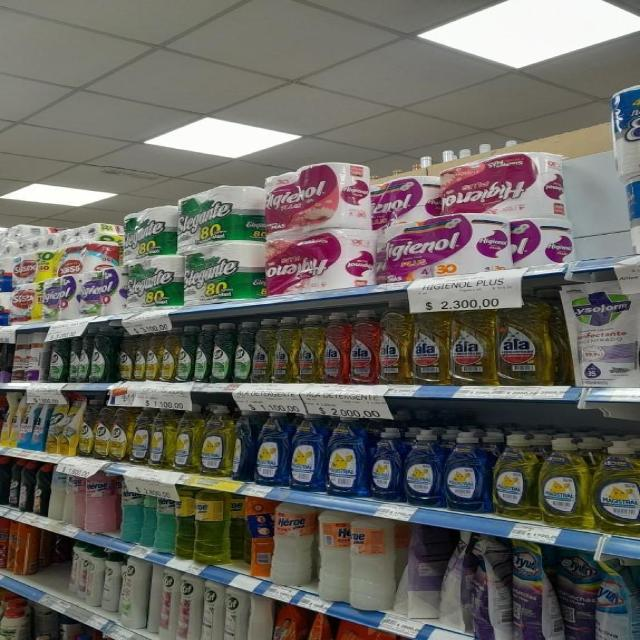ala_conc_amarillo: (496, 297, 554, 386), (449, 305, 495, 386), (411, 306, 448, 385), (378, 306, 409, 385), (298, 314, 322, 383), (274, 316, 297, 383), (252, 318, 274, 383)
ala_conc_rojo: (349, 309, 378, 385), (322, 311, 348, 384)
ala_crem_rosado: (86, 471, 116, 534)
cif_conc_bot_amarilla: (110, 403, 128, 462), (93, 398, 109, 459), (117, 329, 133, 381), (161, 326, 175, 382), (146, 329, 160, 382), (134, 330, 146, 382)
cif_conc_botella_verde: (90, 324, 113, 383), (212, 322, 232, 383), (234, 320, 252, 383), (176, 325, 193, 382), (68, 331, 86, 383), (195, 324, 210, 383), (48, 335, 66, 383)
heroe: (273, 502, 315, 587), (316, 509, 350, 602), (249, 496, 272, 580), (120, 476, 141, 543)
magistral_con_amarillo: (592, 439, 640, 535), (540, 436, 588, 526), (492, 431, 537, 518), (202, 404, 232, 477), (175, 404, 200, 473), (150, 405, 173, 469), (130, 404, 150, 465)
magistral_con_azul: (443, 428, 489, 512), (327, 417, 367, 497), (404, 427, 441, 507), (290, 412, 324, 492), (255, 410, 288, 486), (370, 425, 402, 502)
